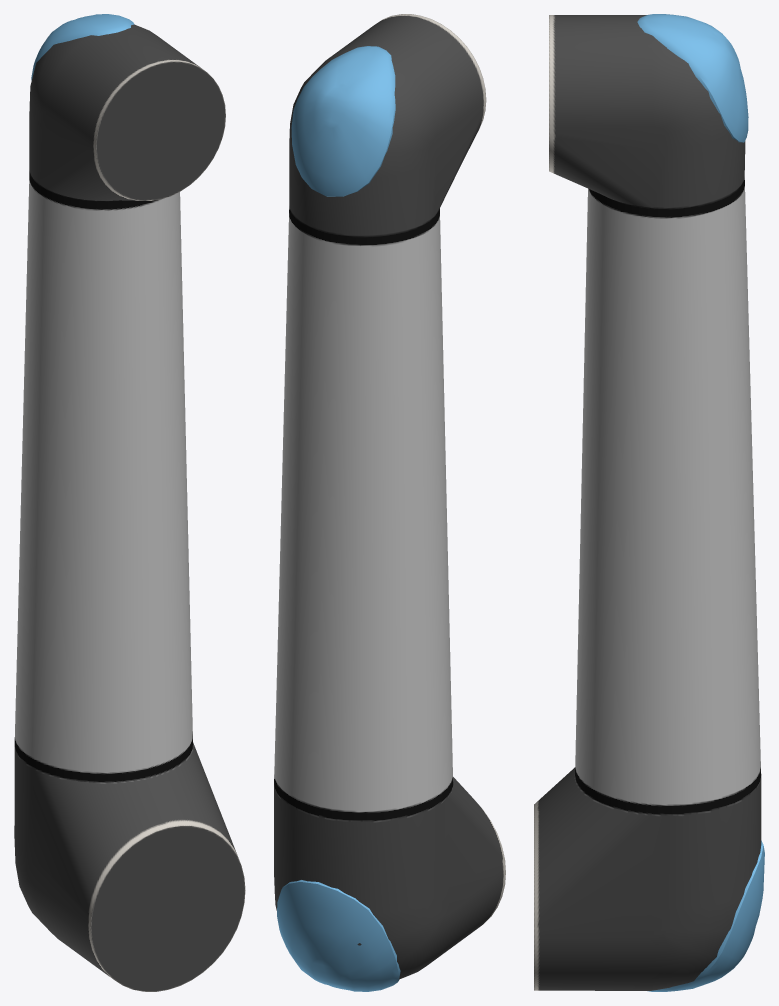
Rendered from upperarm.fbx.
3 views of the same model, side by side, from view 1: azimuth 30°, elevation 25°; view 2: azimuth 150°, elevation 25°; view 3: azimuth 270°, elevation 25° (orthographic). The views are drawn at different scales.
Visible parts, largest first — view 1: upperarm; view 2: upperarm; view 3: upperarm.
Boxes of the visible parts, left/top/right/bottom form: upperarm: left=14, top=14, right=245, bottom=991; upperarm: left=274, top=14, right=505, bottom=991; upperarm: left=534, top=14, right=764, bottom=991.
Bounding box in the file's own units: 18.07 × 103 × 22.42.
